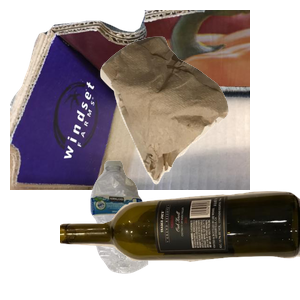cardboard: (10, 10, 250, 190)
glass: (60, 189, 300, 300)
plastic: (88, 158, 229, 300)
trash: (98, 34, 300, 211)
